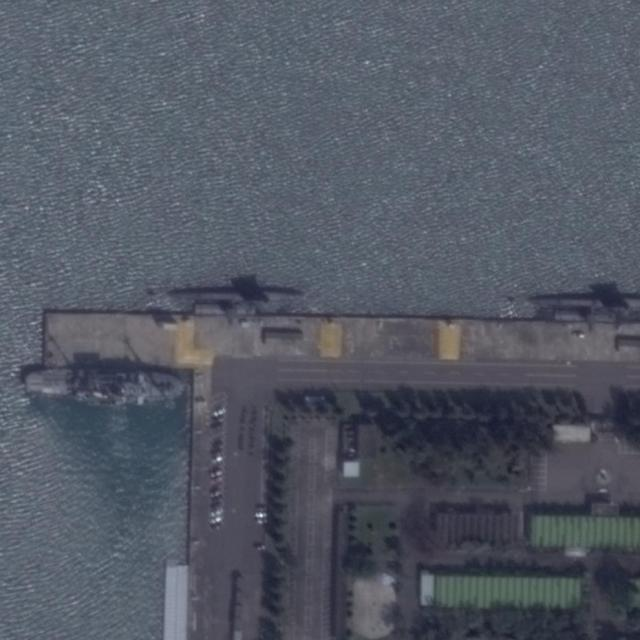Other Warship: (26, 371, 184, 405)
Submarine: (169, 288, 305, 303)
